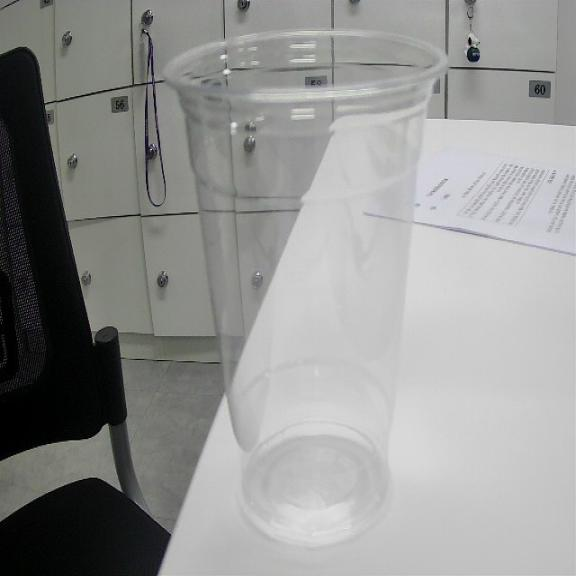Plastik: (165, 30, 447, 544)
